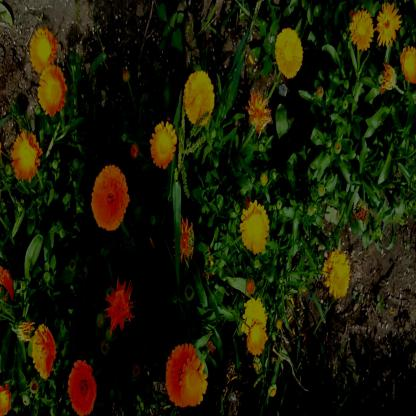marigold: (164, 340, 206, 405), (92, 163, 127, 229), (184, 72, 214, 124), (68, 357, 96, 412), (11, 131, 41, 179), (275, 28, 303, 76), (242, 204, 269, 253), (38, 64, 65, 112), (324, 250, 350, 298), (150, 121, 176, 166), (31, 326, 54, 376), (29, 31, 55, 71), (172, 215, 194, 261), (375, 5, 399, 42), (350, 12, 374, 48), (247, 90, 268, 131), (243, 300, 266, 334)
